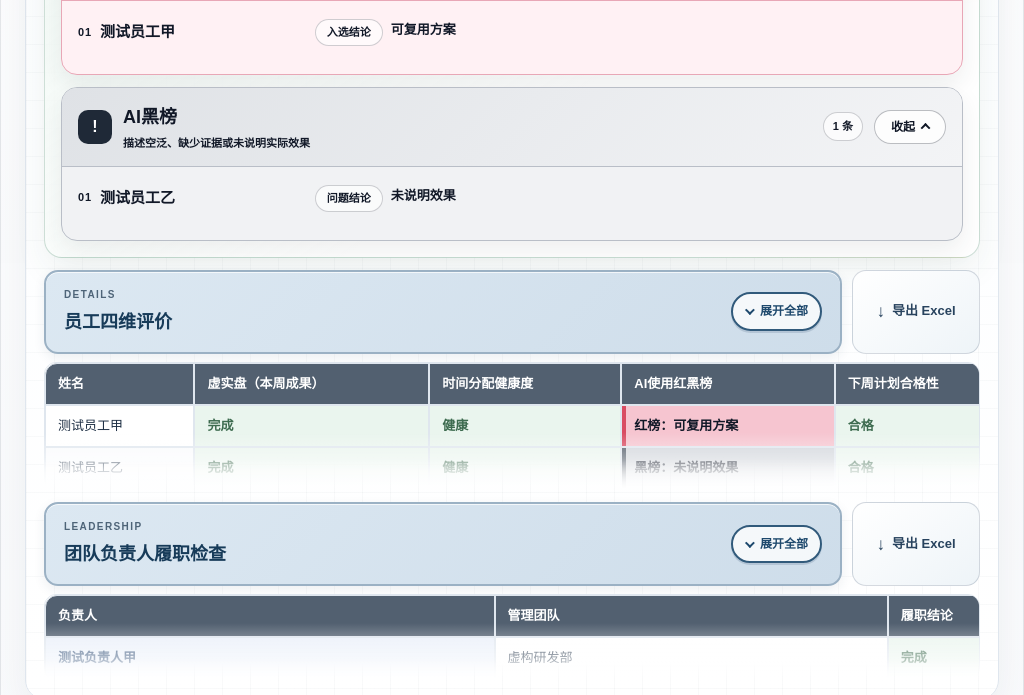
Test: AI evaluation view › keeps employee and leader sections collapsed until explicitly expanded
(page scrolled)
Expected: the number of elements with class "is-preview" is 2, 44,362 -> 980,490; 44,594 -> 980,680
Expected: the number of buttons with class "report-section-export" is 2, 852,270 -> 980,354; 852,502 -> 980,586
Click the button with class "report-section-toggle" showing "DETAILS 员工四维评价 展开全部". click: click(90, 294)
box: 44,270 -> 842,354
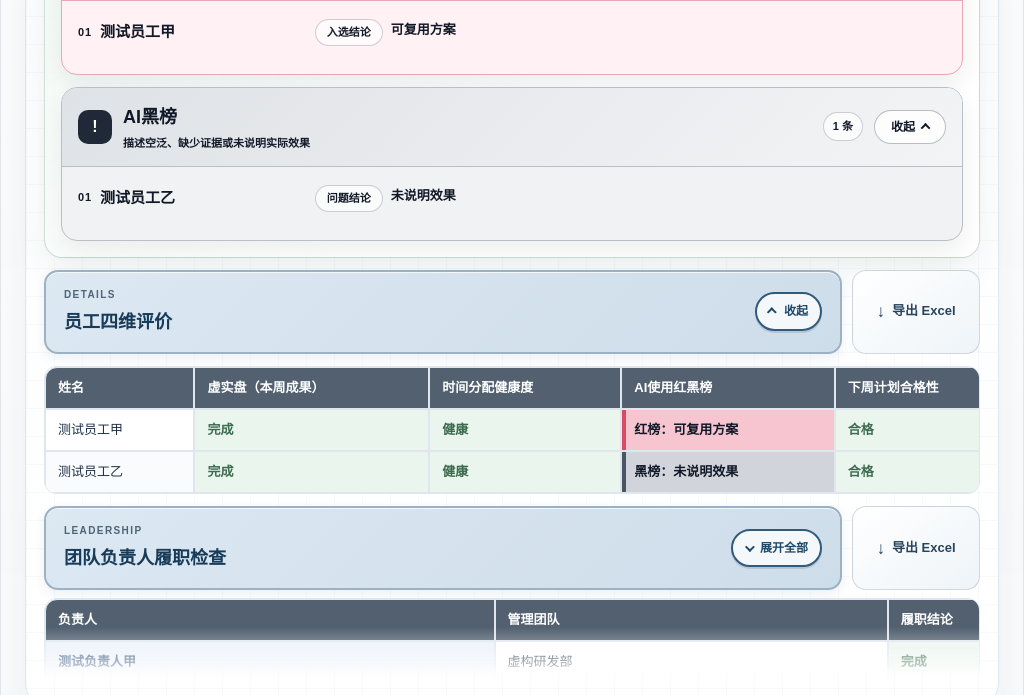
Result: the button with class "report-section-toggle" is expanded at 44,270 -> 842,354
Click the button with class "report-section-toggle" showing "LEADERSHIP 团队负责人履职检查 展开全部". click: click(103, 531)
box: 44,506 -> 842,590
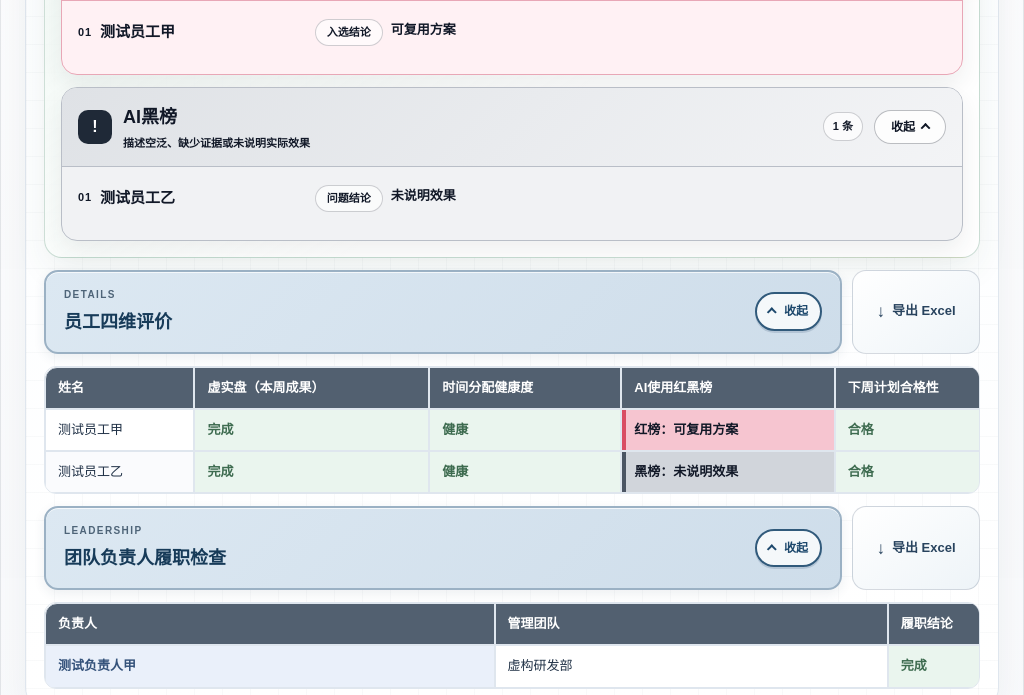
Result: the button with class "report-section-toggle" is expanded at 44,506 -> 842,590
